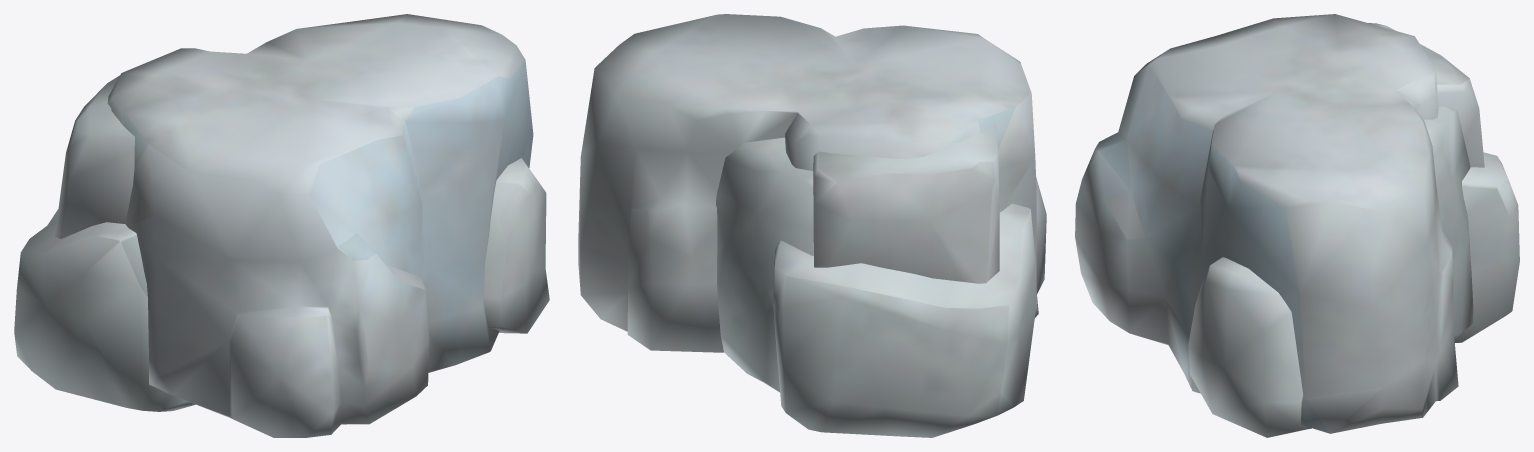
File: P_RockSpire_Shelf02.obj
3 views of the same model, side by side, from view 1: azimuth 30°, elevation 25°; view 2: azimuth 150°, elevation 25°; view 3: azimuth 270°, elevation 25° (orthographic). The views are drawn at different scales.
Size of the model in its own units: 37.99 by 22.73 by 33.5.
